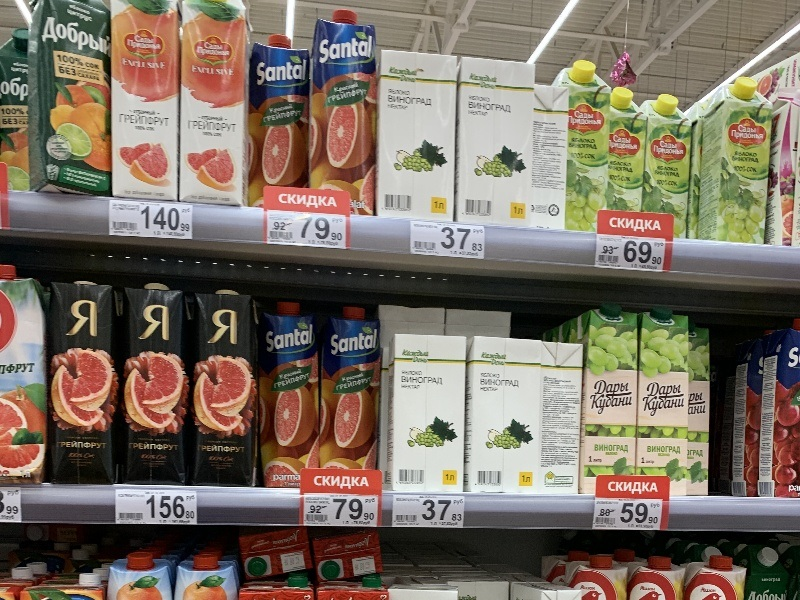juice: (171, 1, 258, 213), (39, 277, 126, 488), (184, 286, 266, 495), (308, 8, 387, 219), (118, 277, 192, 489), (253, 297, 329, 496), (316, 304, 393, 477), (701, 77, 778, 250)
